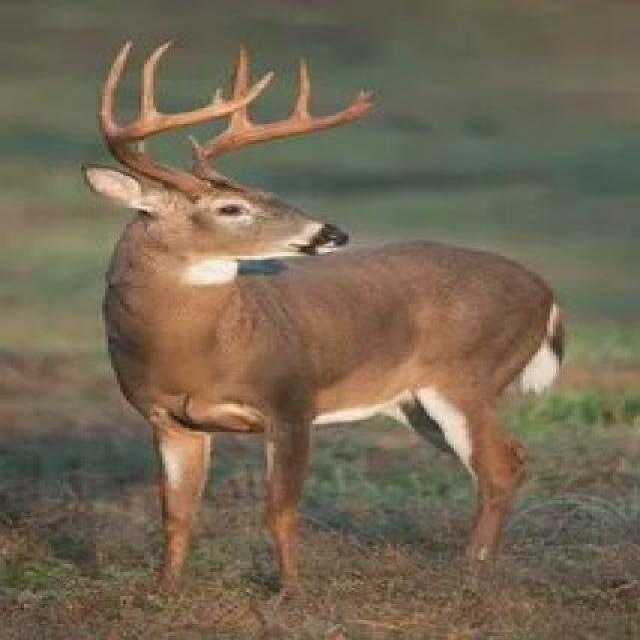deer: (56, 52, 593, 568)
